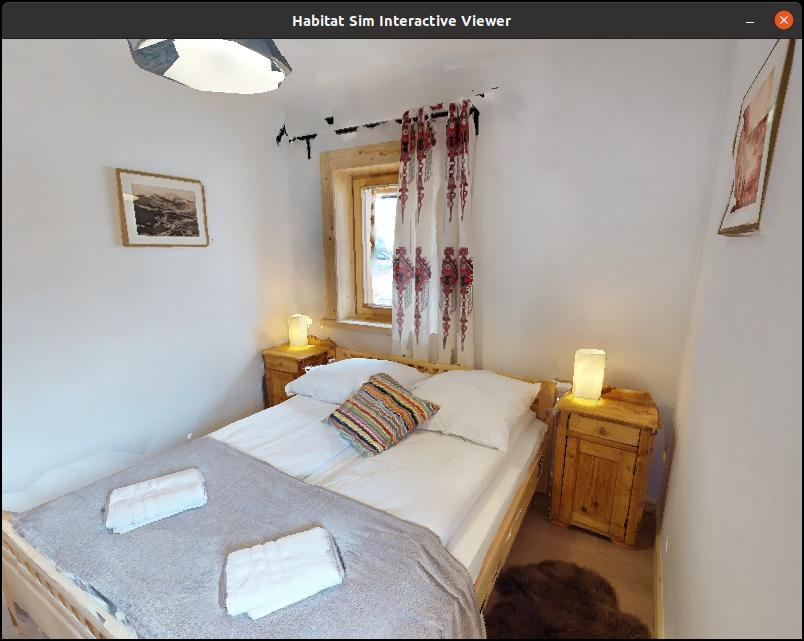bed: (0, 342, 598, 641)
